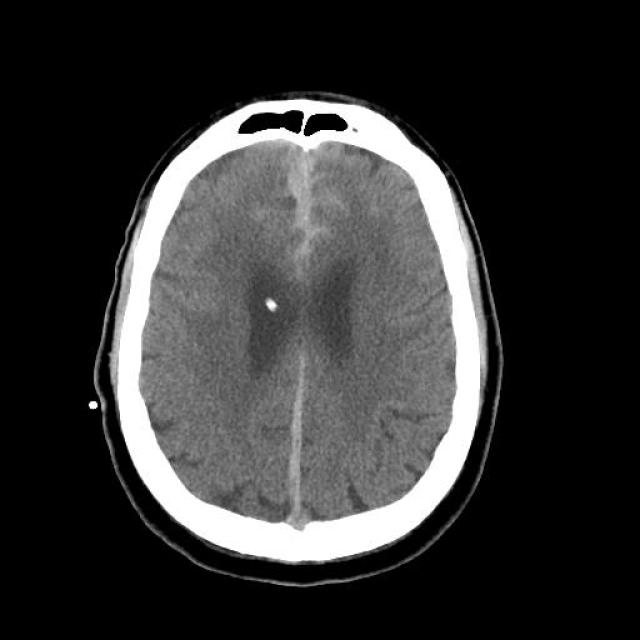Subarachnoid: (238, 134, 376, 268)
Subdural: (257, 371, 335, 551)
